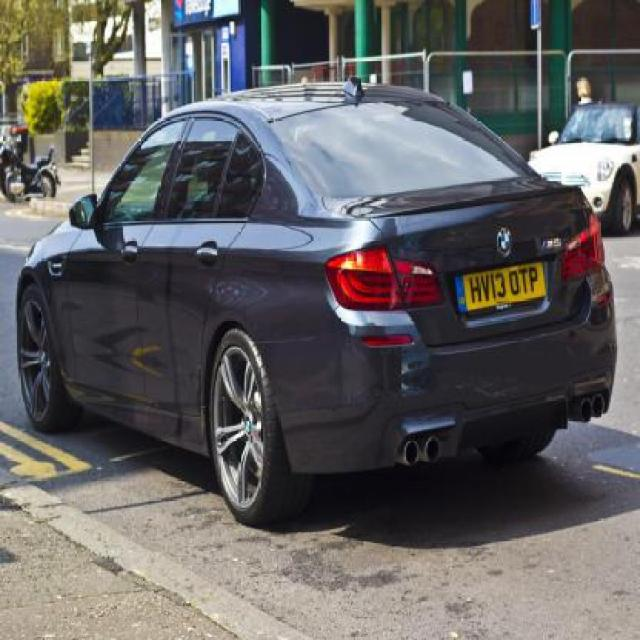License-Plates: (455, 261, 546, 313)
